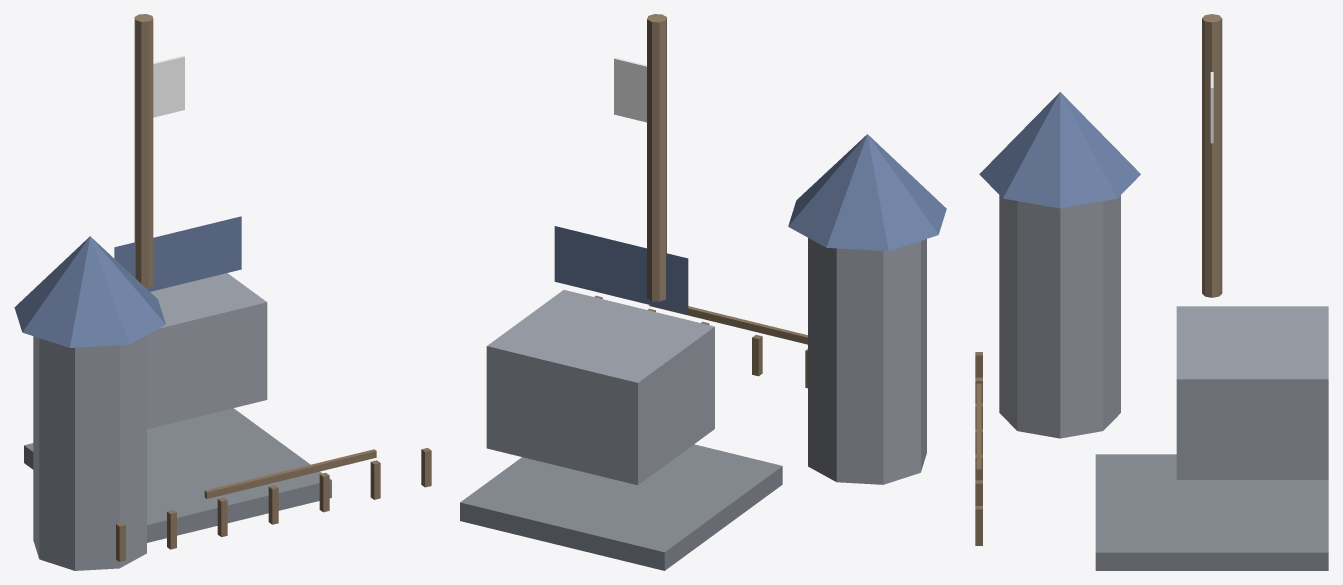
Rendered from vanguard_barracks.glb.
3 views of the same model, side by side, from view 1: azimuth 30°, elevation 25°; view 2: azimuth 150°, elevation 25°; view 3: azimuth 270°, elevation 25° (orthographic). The views are drawn at different scales.
Visible parts, largest first — view 1: vanguard_barracks; view 2: vanguard_barracks; view 3: vanguard_barracks.
Part boxes in pixels (box(x1,y1,x2,y2)): vanguard_barracks: box(14, 14, 431, 570); vanguard_barracks: box(460, 14, 946, 570); vanguard_barracks: box(975, 14, 1328, 570).
Size of the model in its own units: 43.38 by 53 by 34.88.
